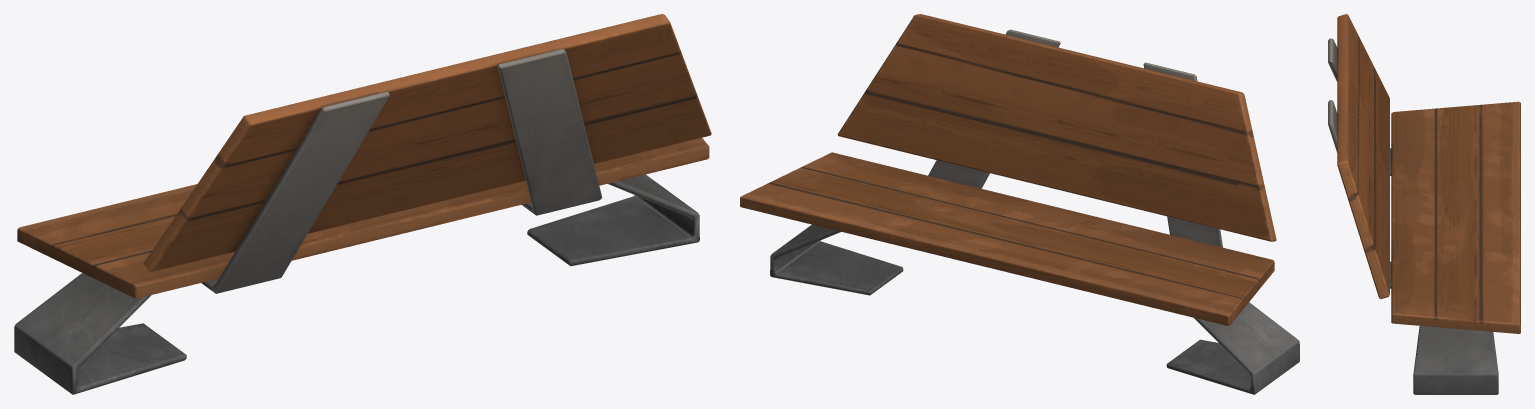
The model's file is SM_Bench001.glb.
3 renders of one model, left to right at view 1: azimuth 30°, elevation 25°; view 2: azimuth 150°, elevation 25°; view 3: azimuth 270°, elevation 25°, orthographic. The views are drawn at different scales.
Parts seen in each view (by area): view 1: SM_Bench001; view 2: SM_Bench001; view 3: SM_Bench001.
Part boxes in pixels (x1=…): SM_Bench001: x1=14, y1=14, x2=711, y2=394; SM_Bench001: x1=740, y1=14, x2=1299, y2=394; SM_Bench001: x1=1328, y1=14, x2=1520, y2=394.
Bounding box in the file's own units: 2.66 × 1.11 × 0.944.
1 material, 1 textured.
